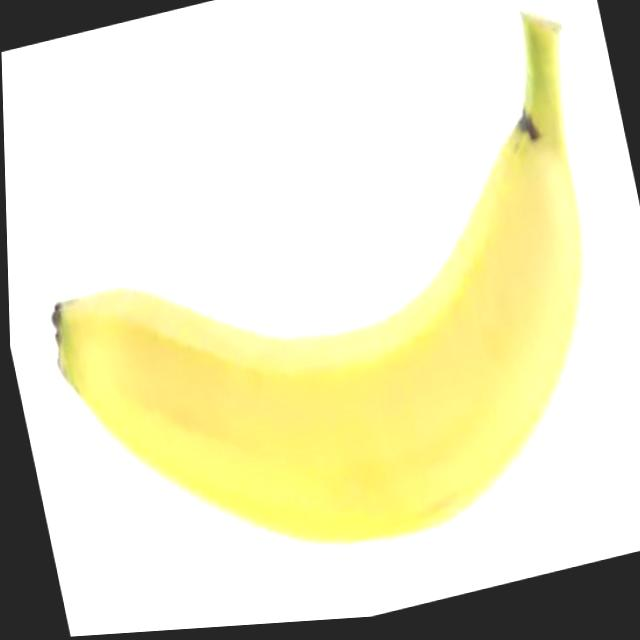Banana: (3, 1, 640, 615)
